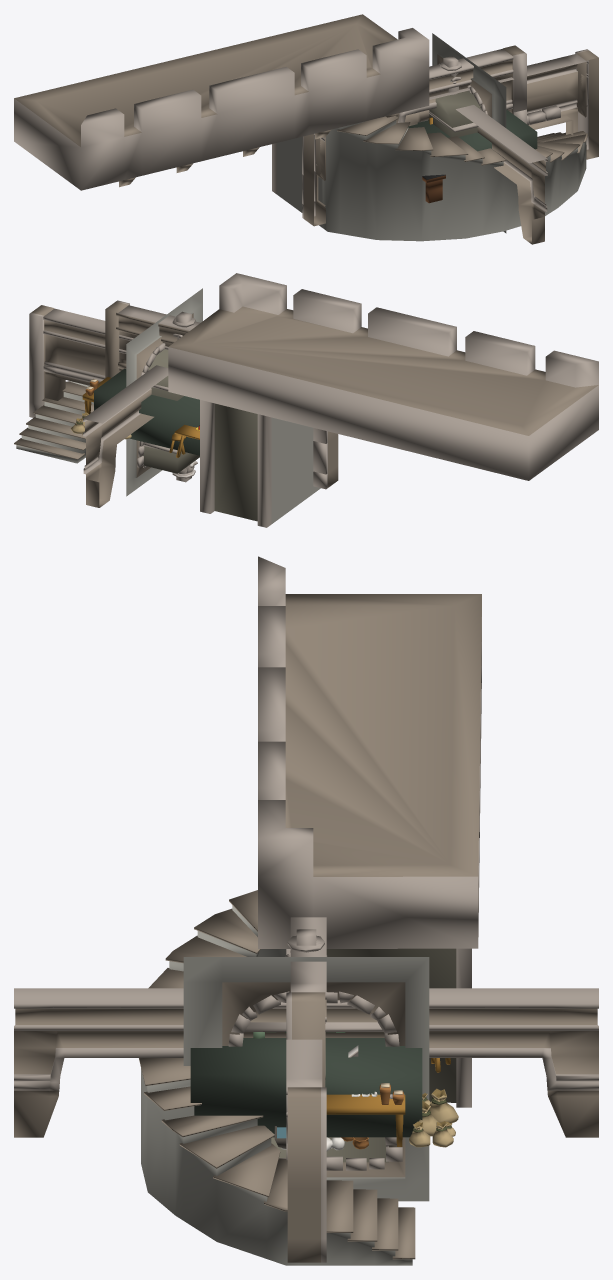
The model's file is Tomb_template_01.fbx.
3 renders of one model, top to bottom at view 1: azimuth 30°, elevation 25°; view 2: azimuth 150°, elevation 25°; view 3: azimuth 270°, elevation 25°, orthographic. The views are drawn at different scales.
Visible parts, largest first — view 1: roofsample, spiralstair, walldeco1, walldeco2, walldeco0, corpse-linedwall, putrid_fluid, corpsepreproom, longbrickline; view 2: roofsample, spiralstair, walldeco1, walldeco2, corpse-linedwall, putrid_fluid, walldeco0, corpsepreproom; view 3: roofsample, spiralstair, walldeco2, corpse-linedwall, putrid_fluid, walldeco1, corpsepreproom, walldeco0.
Boxes of the visible parts, <box> form: roofsample: <box>14,14,429,190</box>; spiralstair: <box>272,116,587,241</box>; walldeco1: <box>302,49,598,226</box>; walldeco2: <box>456,105,547,244</box>; walldeco0: <box>396,45,526,123</box>; corpse-linedwall: <box>428,33,506,233</box>; putrid_fluid: <box>408,110,537,151</box>; corpsepreproom: <box>422,174,445,203</box>; longbrickline: <box>527,105,560,125</box>; roofsample: <box>168,273,598,480</box>; spiralstair: <box>14,381,320,527</box>; walldeco1: <box>29,305,338,489</box>; walldeco2: <box>83,365,168,507</box>; corpse-linedwall: <box>126,288,202,496</box>; putrid_fluid: <box>94,368,199,455</box>; walldeco0: <box>105,300,200,377</box>; corpsepreproom: <box>70,377,199,457</box>; roofsample: <box>258,556,481,948</box>; spiralstair: <box>139,890,471,1265</box>; walldeco2: <box>14,988,598,1137</box>; corpse-linedwall: <box>183,957,429,1201</box>; putrid_fluid: <box>190,1038,422,1137</box>; walldeco1: <box>286,949,326,1262</box>; corpsepreproom: <box>274,1058,458,1148</box>; walldeco0: <box>286,917,326,1160</box>.
Bounding box in the file's own units: 147 × 52.17 × 84.7.
